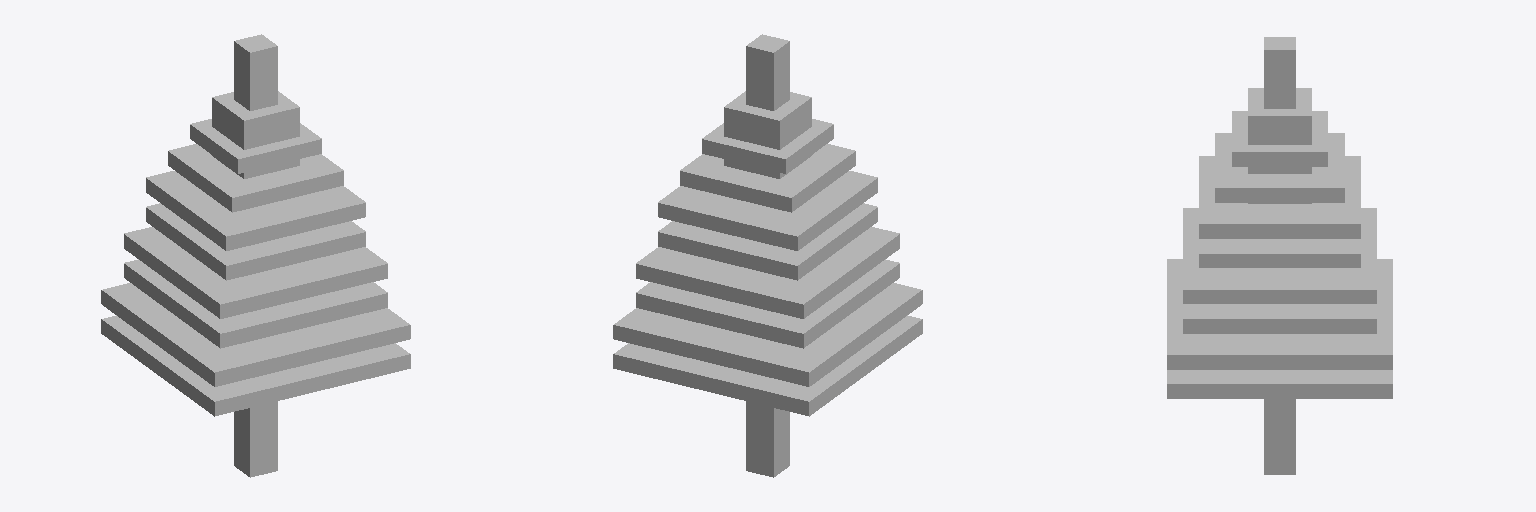
File: PineTree.obj
3 renders of one model, left to right at view 1: azimuth 30°, elevation 25°; view 2: azimuth 150°, elevation 25°; view 3: azimuth 270°, elevation 25°, orthographic.
Visible parts, largest first — view 1: object 1; view 2: object 1; view 3: object 1.
Part boxes in pixels (x1,y1,x2,y2): object 1: (101, 34, 410, 477); object 1: (613, 34, 922, 477); object 1: (1167, 37, 1392, 474).
Bounding box in the file's own units: 1.4 × 2.9 × 1.4.